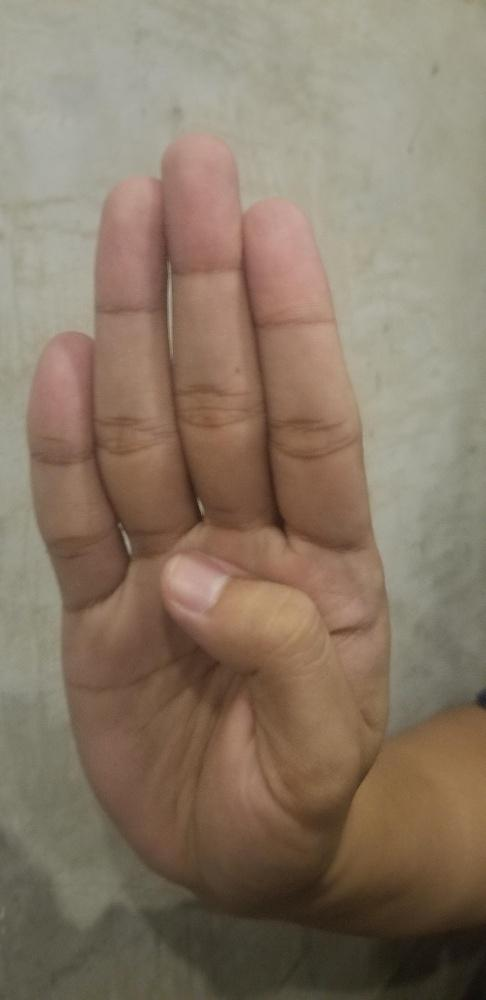b: (25, 131, 392, 898)
